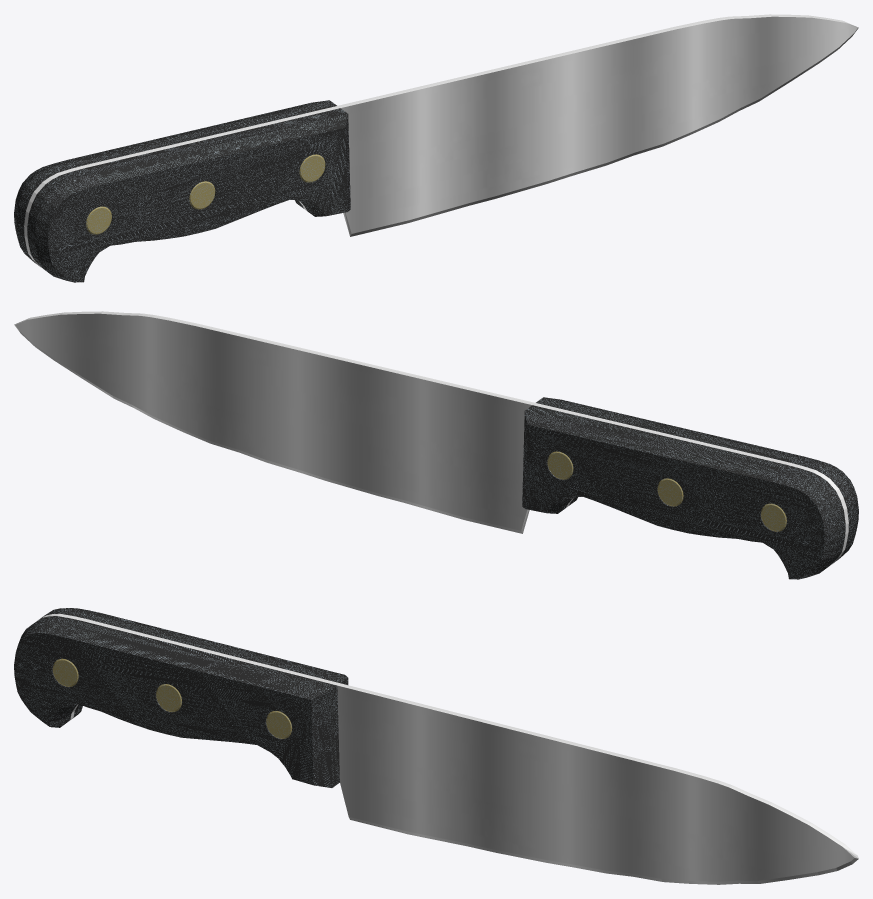
The model's file is Knife.dae.
3 renders of one model, top to bottom at view 1: azimuth 30°, elevation 25°; view 2: azimuth 150°, elevation 25°; view 3: azimuth 330°, elevation 25°, orthographic.
Parts seen in each view (by area): view 1: blade, handle (×2), ribbets (×3); view 2: blade, handle (×2), ribbets (×3); view 3: blade, handle (×2), ribbets (×3).
Part boxes in pixels (bbox=[...]): blade: bbox=[24, 14, 858, 268]; handle (×2): bbox=[14, 100, 350, 282]; ribbets (×3): bbox=[86, 154, 325, 234]; blade: bbox=[14, 311, 848, 565]; handle (×2): bbox=[522, 397, 858, 579]; ribbets (×3): bbox=[547, 451, 786, 531]; blade: bbox=[35, 613, 858, 884]; handle (×2): bbox=[14, 608, 348, 787]; ribbets (×3): bbox=[52, 658, 292, 738].
Bounding box in the file's own units: 12.22 × 0.8661 × 1.9.
